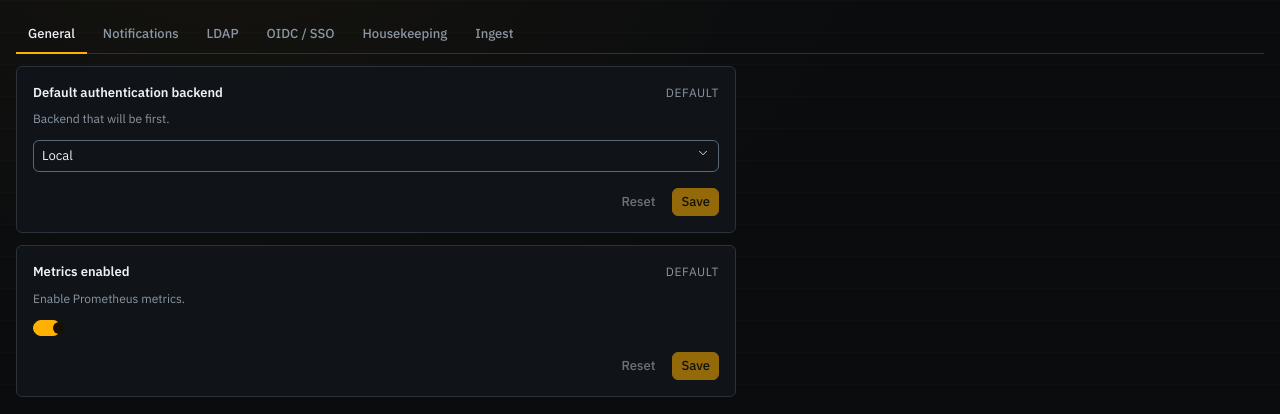
Test: SettingsPage › hides non-enabled LDAP cards when ldap.enabled is false
Click the tab "LDAP".
click(223, 35)  # box [195, 16, 251, 54]
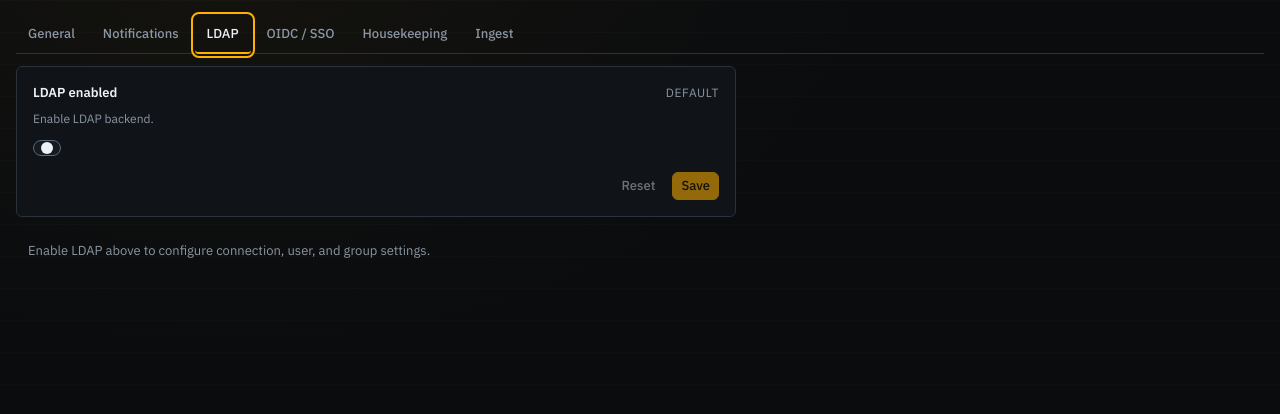
Check: the text "LDAP enabled" is shown, box [33, 82, 117, 102]
Check: the text "Enable LDAP above to configure connection" is shown, box [28, 242, 430, 259]
